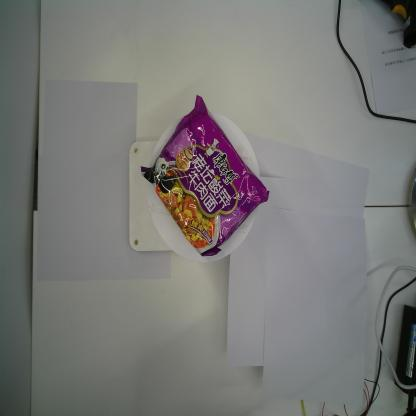Instant Noodles: (140, 95, 269, 259)
